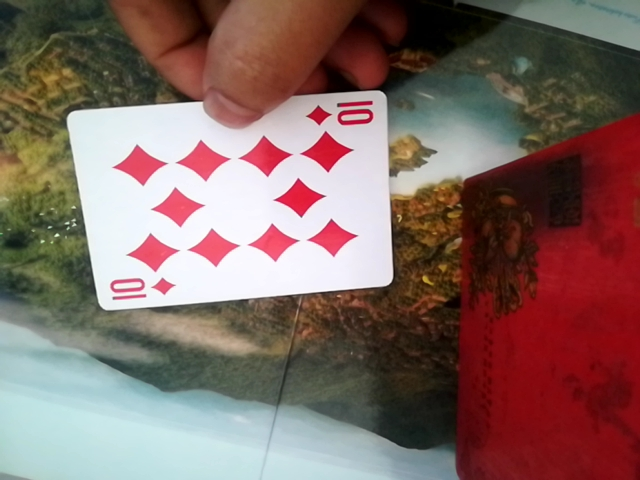fk 10: (69, 90, 398, 309)
